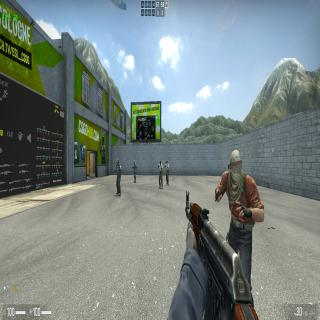CT-Body: (114, 158, 122, 197), (132, 160, 137, 183)
CT-Head: (117, 158, 119, 166), (134, 160, 136, 165)
T-Body: (216, 149, 264, 234), (158, 160, 163, 189), (165, 160, 169, 185)
T-Head: (229, 149, 242, 186), (160, 160, 162, 166), (166, 161, 168, 165)
